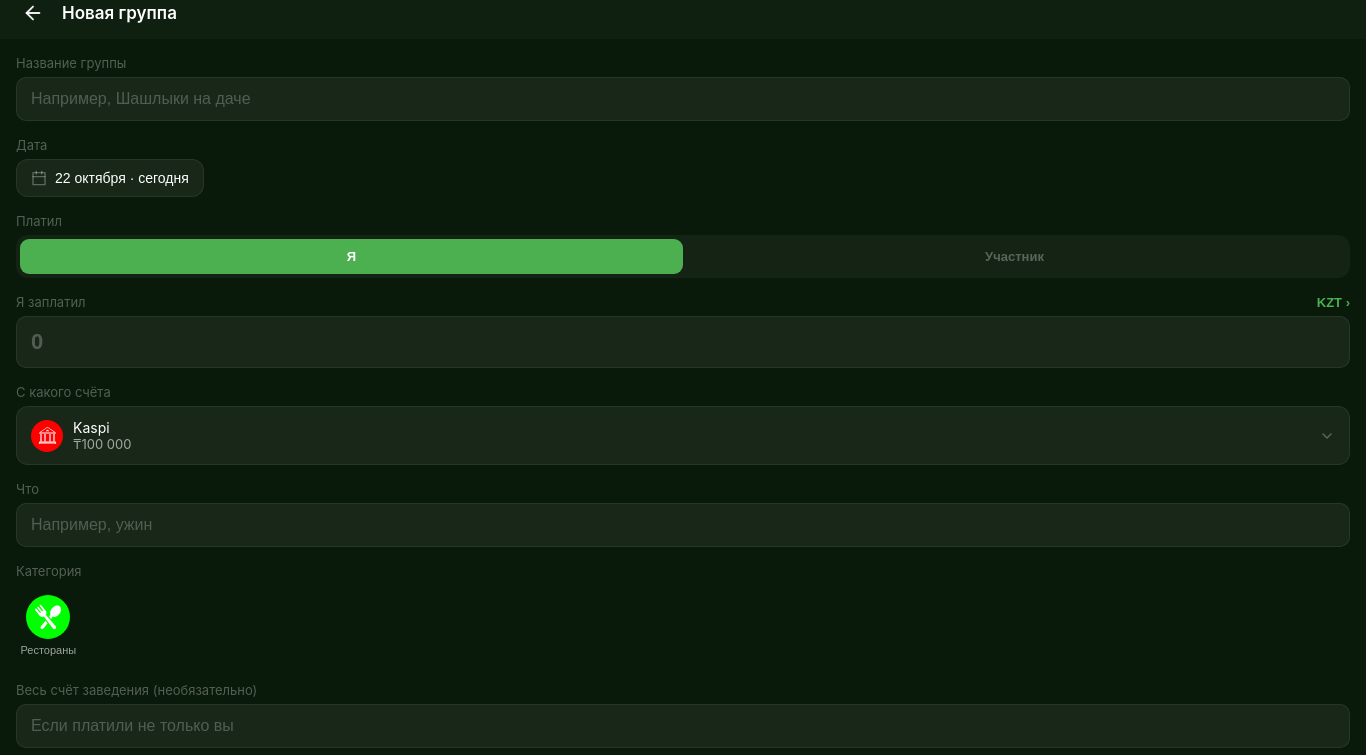
Test: без других участников и категории сохранить нельзя
This screenshot has width=1366, height=755.
Type "1000" into the field with placeholder "0". click: (683, 342)
box: left=16, top=316, right=1350, bottom=368
(page scrolled)
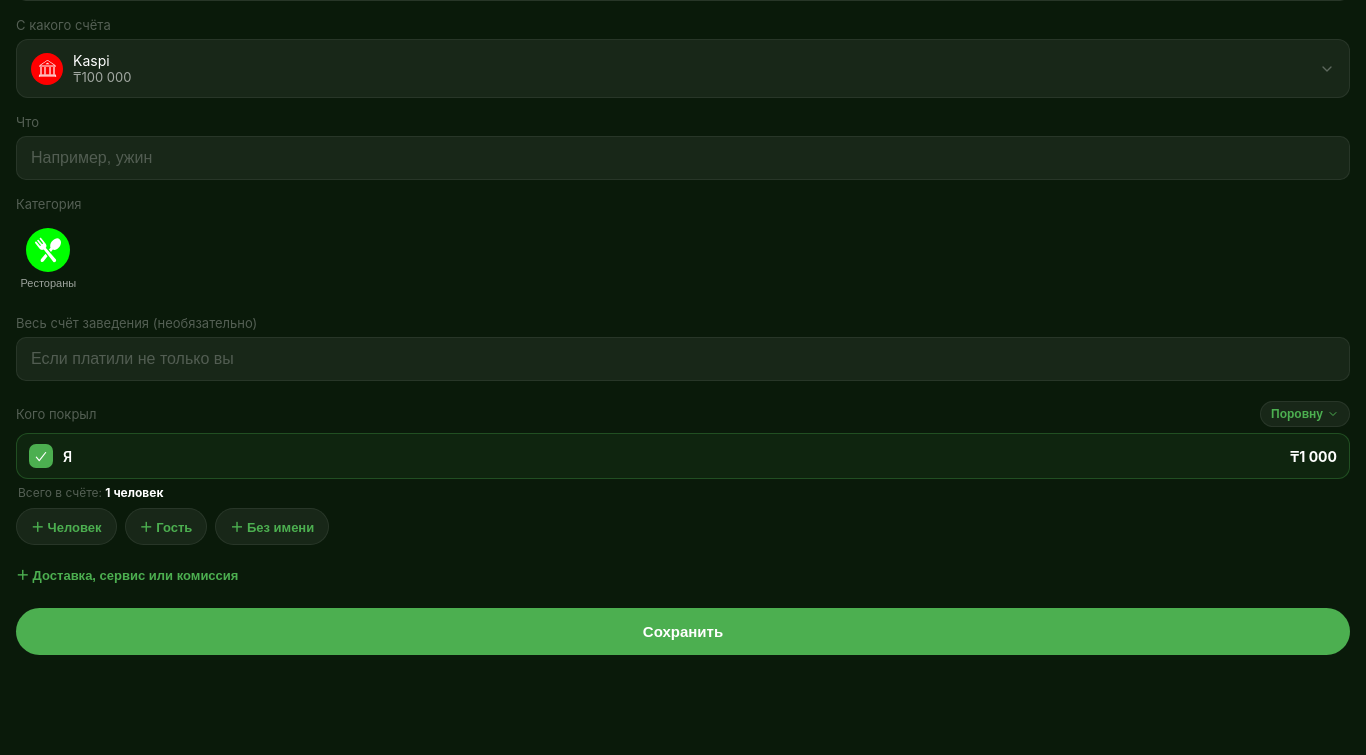
Click the button "Сохранить". click: (683, 632)
box: left=16, top=608, right=1350, bottom=655
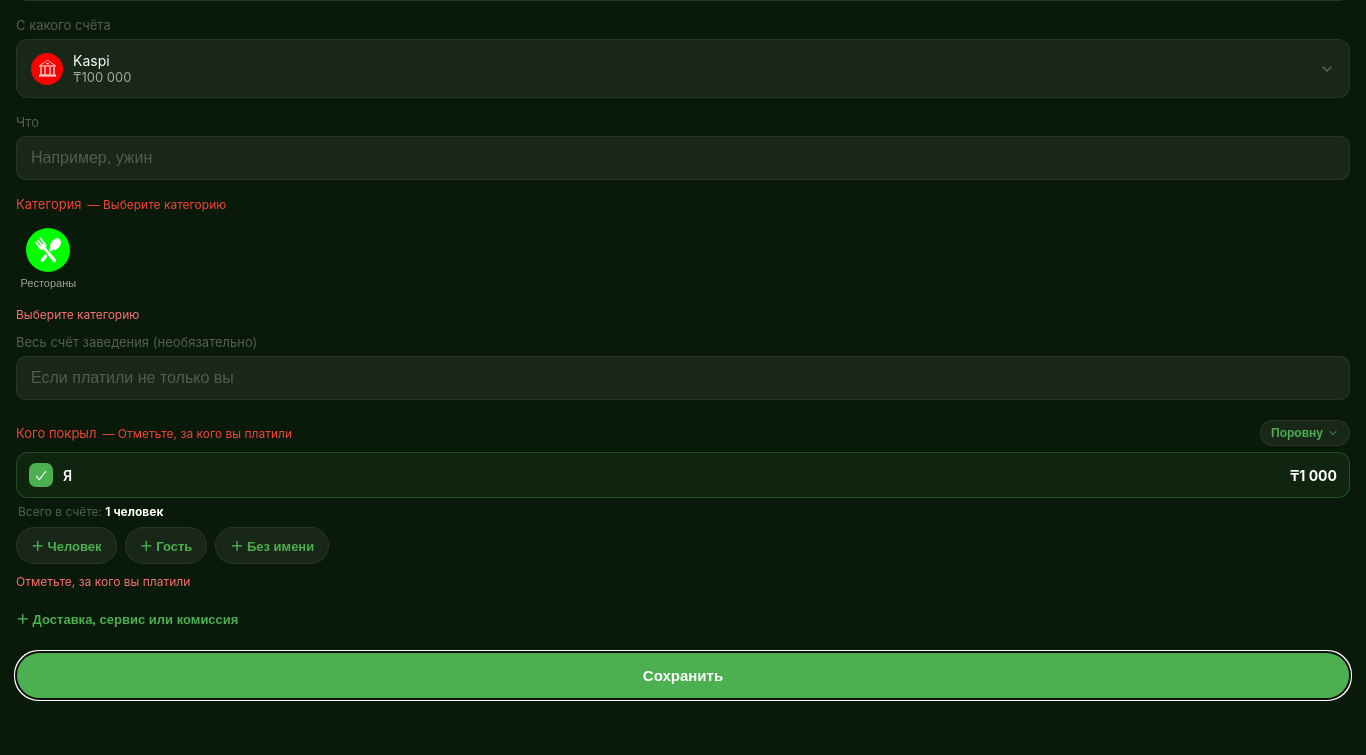
Expected: the text "Отметьте, за кого вы платили" is shown, left=16, top=574, right=190, bottom=589
Expected: the text "Выберите категорию" is shown, left=16, top=307, right=139, bottom=322
